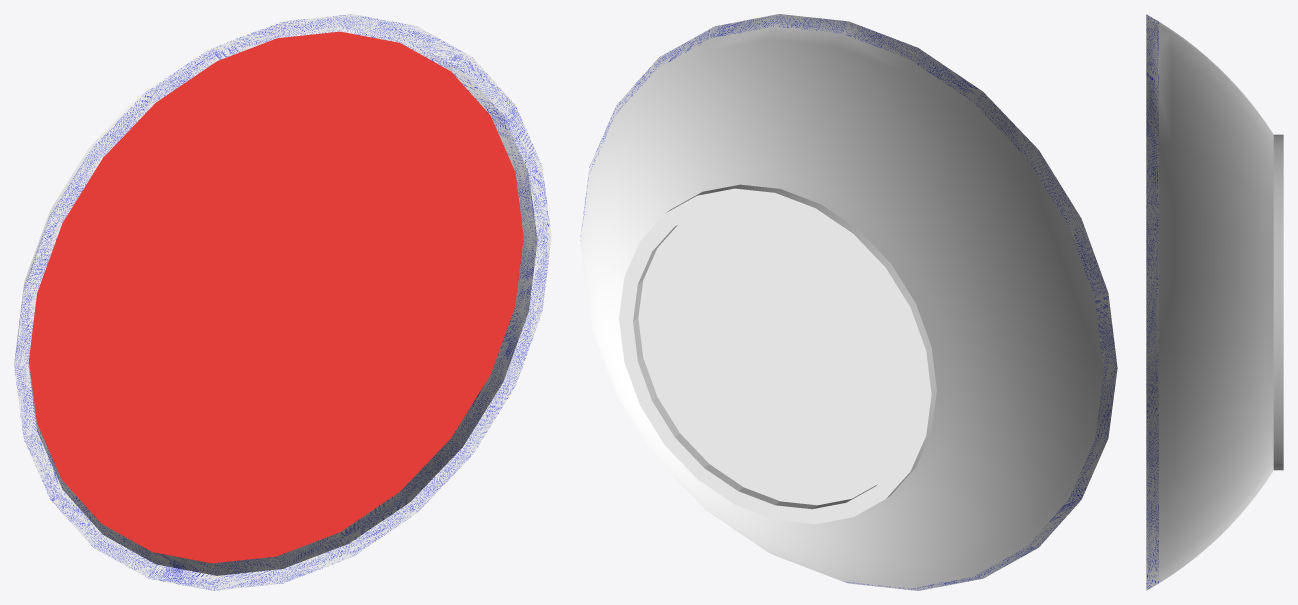
Rendered from model_align.obj.
The picture shows the model from 3 angles, left to right: view 1: azimuth 30°, elevation 25°; view 2: azimuth 150°, elevation 25°; view 3: azimuth 270°, elevation 25°; orthographic projection. The views are drawn at different scales.
Parts seen in each view (by area): view 1: mesh1_mesh1-geometry; view 2: mesh1_mesh1-geometry; view 3: mesh1_mesh1-geometry.
Boxes of the visible parts, box(x1,y1,x2,y2) form: mesh1_mesh1-geometry: box(14, 14, 551, 590); mesh1_mesh1-geometry: box(580, 14, 1117, 590); mesh1_mesh1-geometry: box(1146, 14, 1283, 590).
Bounding box in the file's own units: 0.1505 × 0.1505 × 0.0358.
